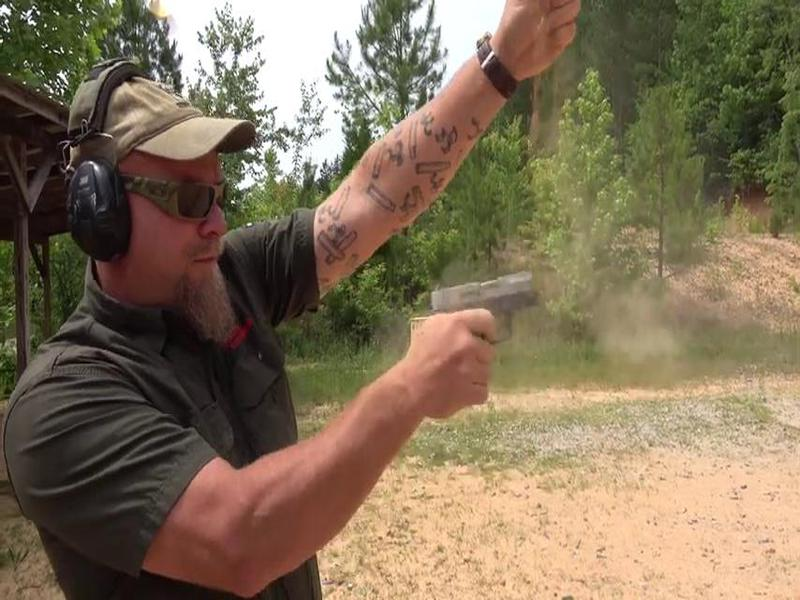Pistola: (428, 265, 549, 343)
